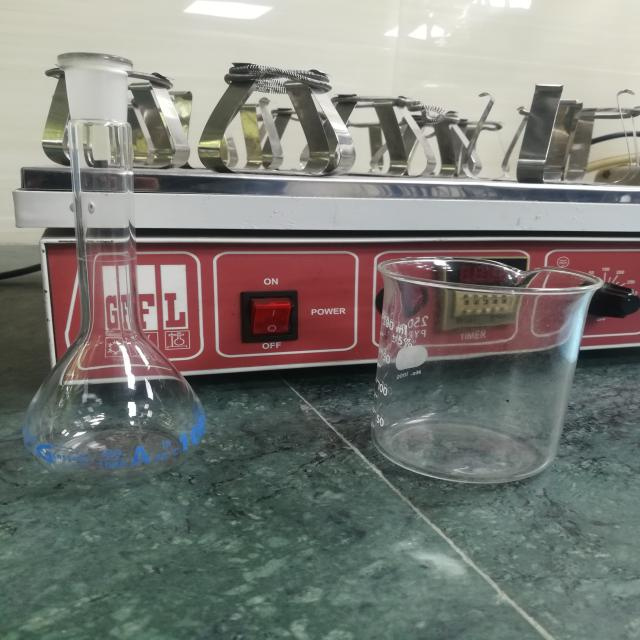Beaker: (325, 203, 624, 519)
Volumetric_Flask: (0, 36, 239, 498)
